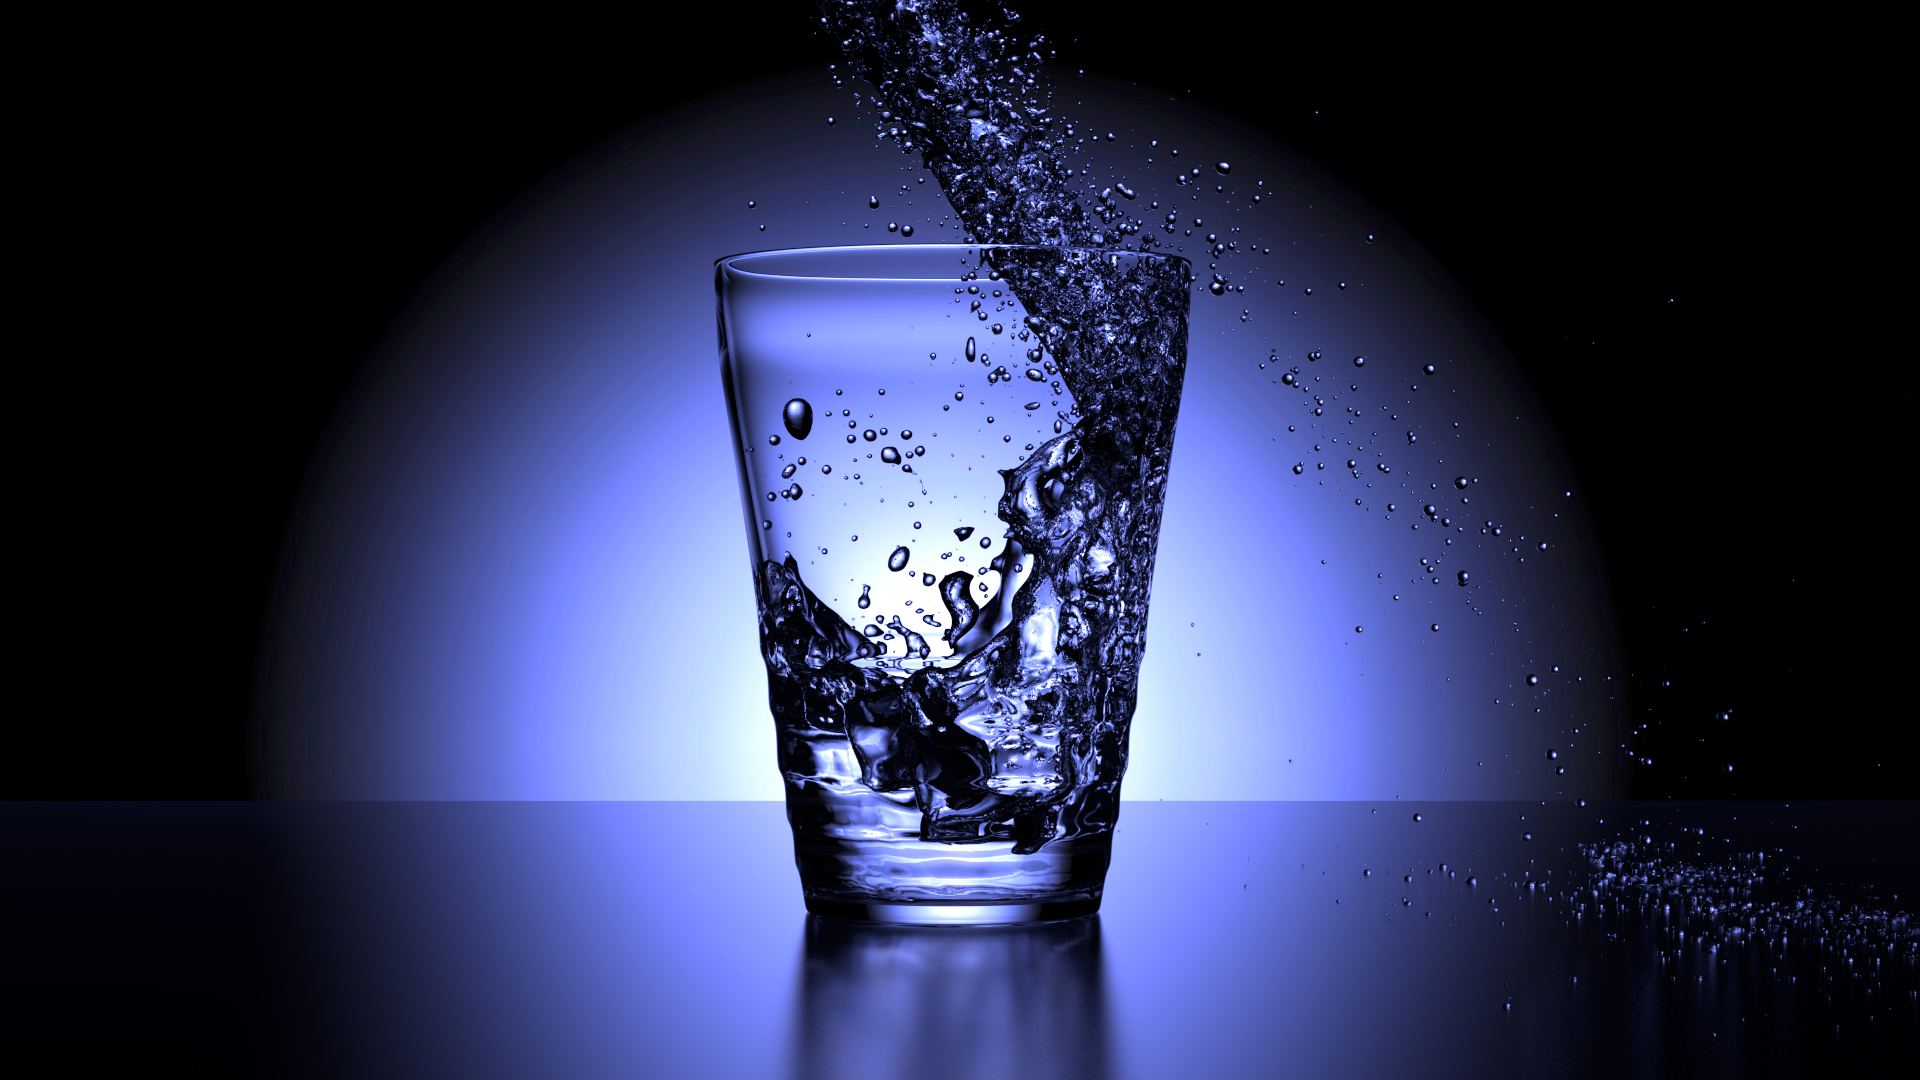glass of water: (790, 290, 1095, 899)
